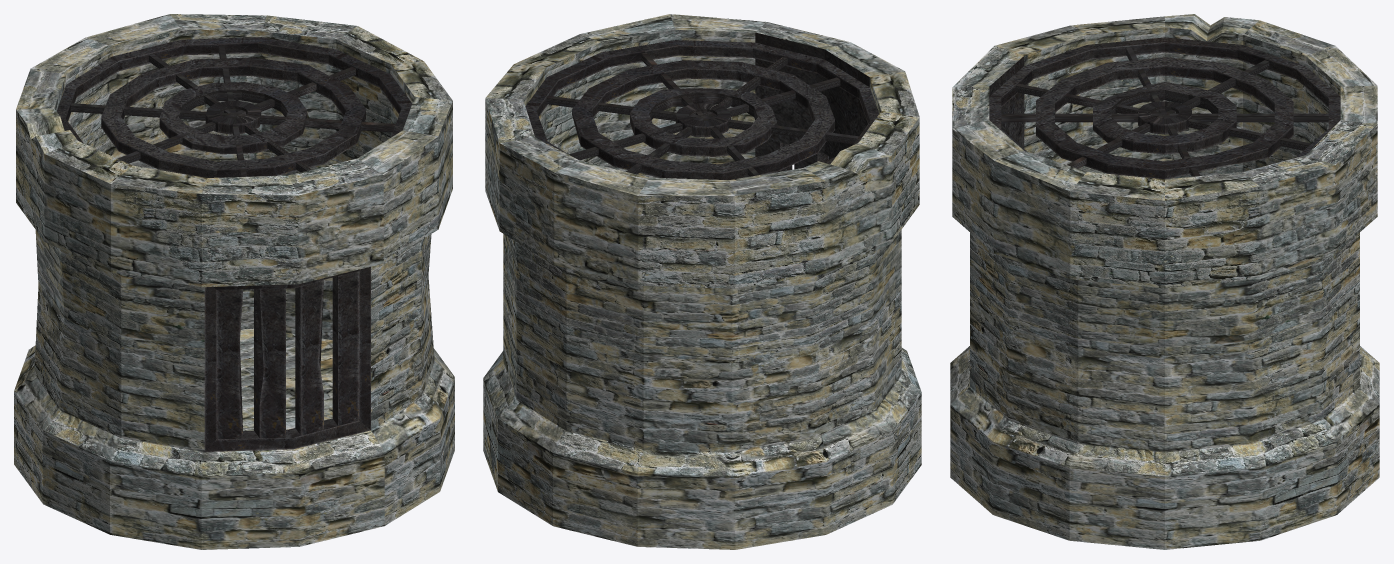
Rendered from tavern_fireplace.dae.
3 views of the same model, side by side, from view 1: azimuth 30°, elevation 25°; view 2: azimuth 150°, elevation 25°; view 3: azimuth 270°, elevation 25° (orthographic).
Visible parts, largest first — view 1: Default_Layer; view 2: Default_Layer; view 3: Default_Layer.
Part boxes in pixels (<box>): Default_Layer: <box>14,14,454,549</box>; Default_Layer: <box>483,14,921,549</box>; Default_Layer: <box>950,14,1379,549</box>.
Bounding box in the file's own units: 2 × 1.77 × 1.95.
